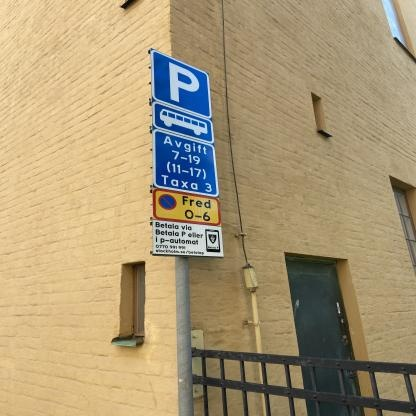P-skylt: (149, 48, 211, 120)
